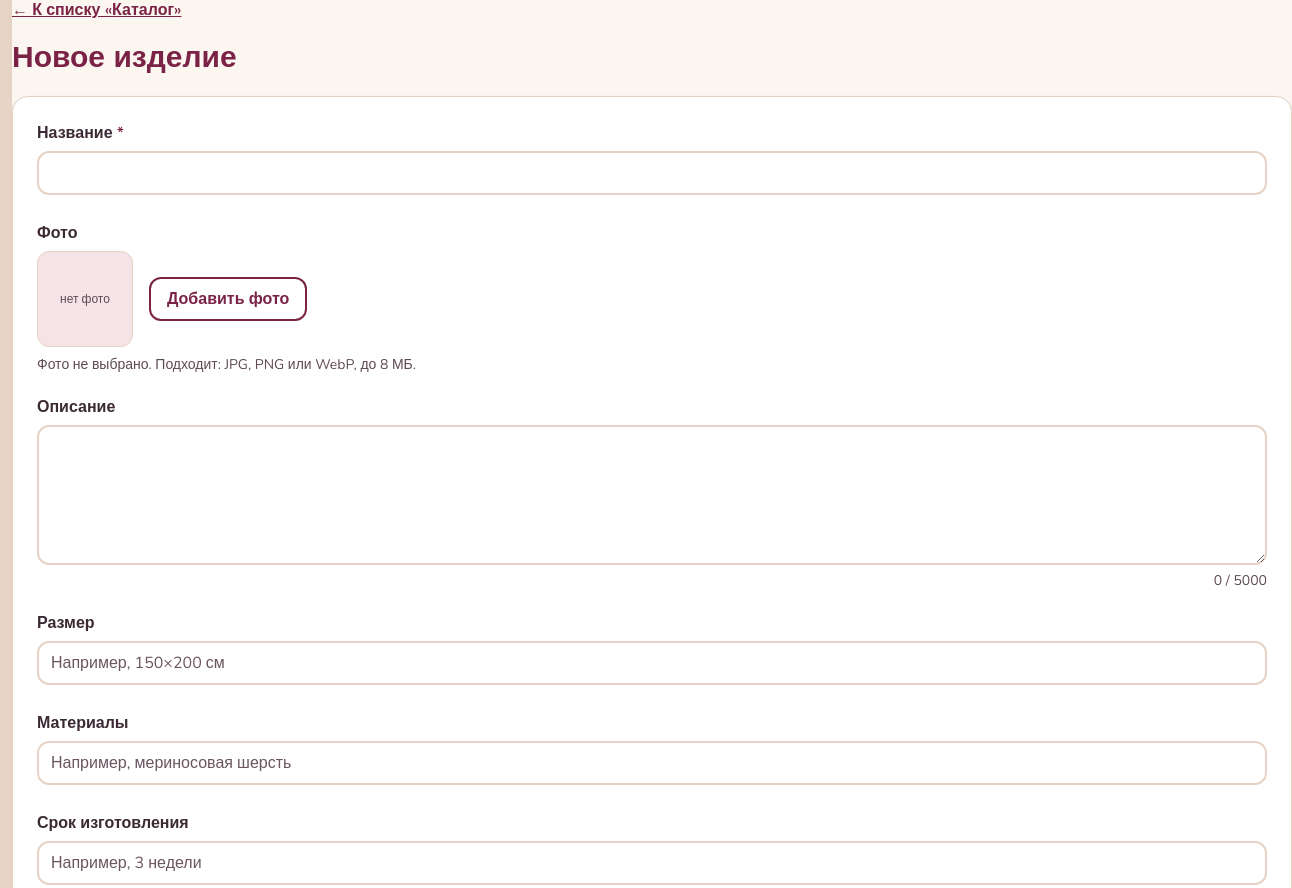
форма изделия › показывает 422 под полями
The image size is (1292, 888).
Type "Плед" into the field labelled "Название *".
click(652, 173); type("Плед")  # box [37,151,1267,195]
(page scrolled)
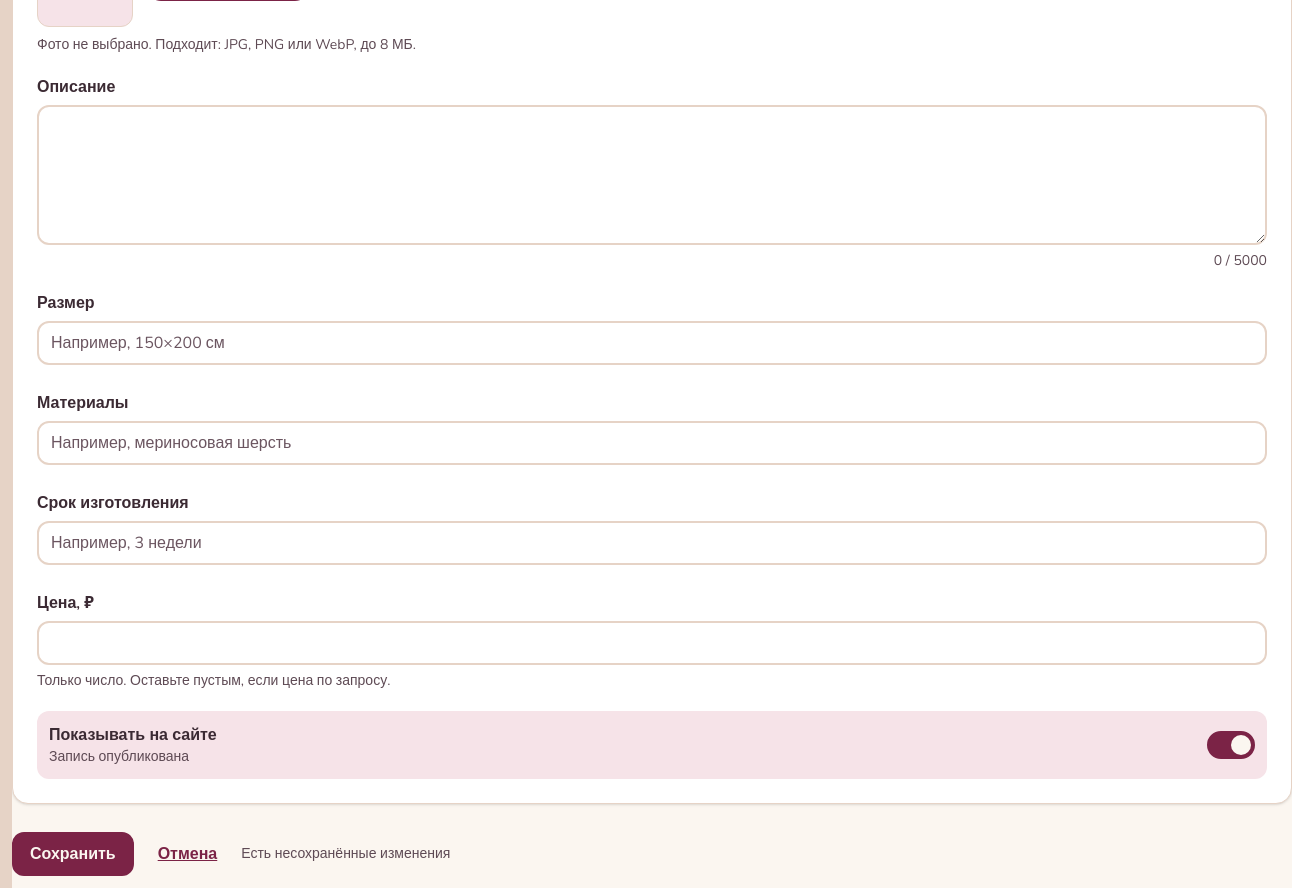
Click the button "Сохранить".
click(73, 854)  # box [12,832,134,876]
(page scrolled)
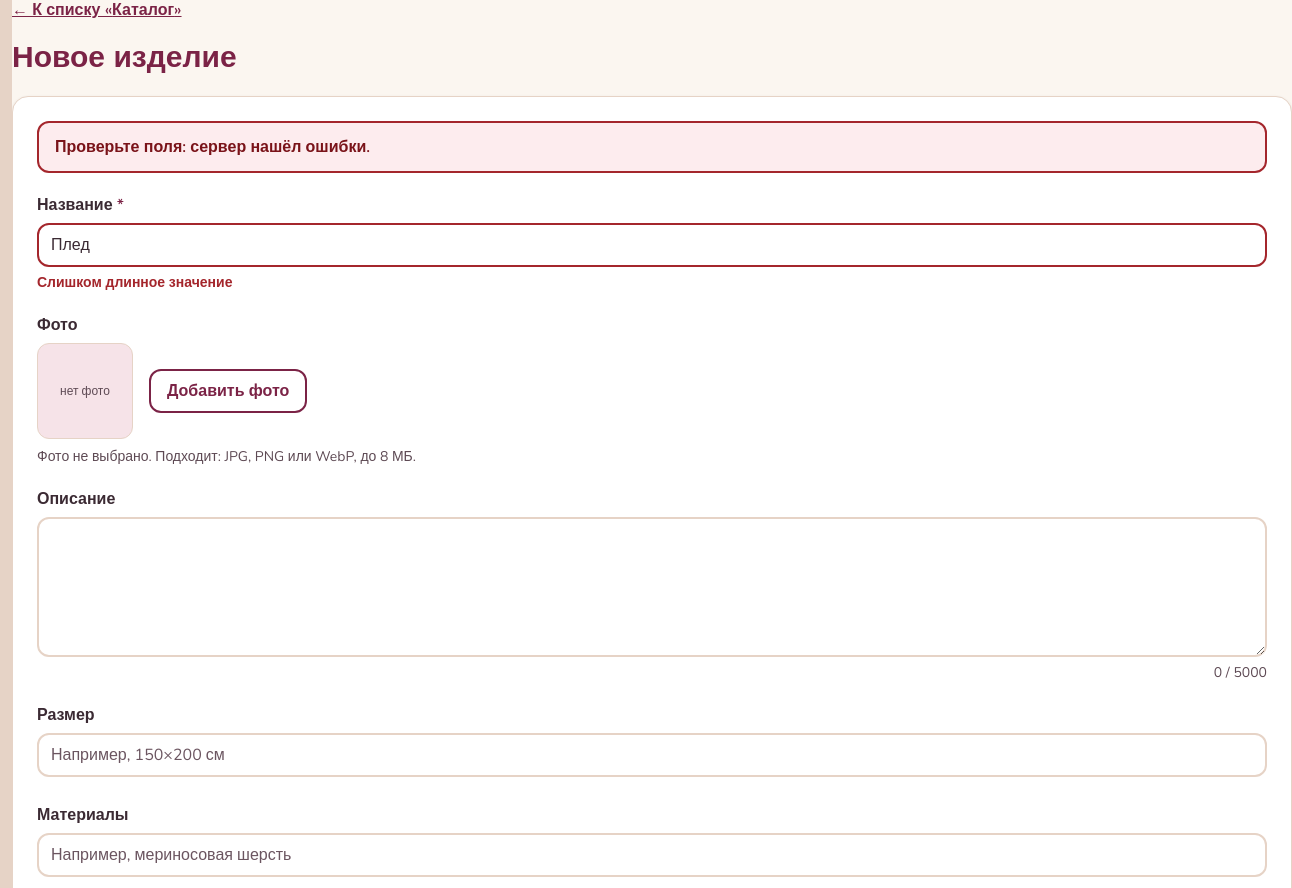
expect the text "Слишком длинное значение" is shown: met, box [37,273,232,292]
